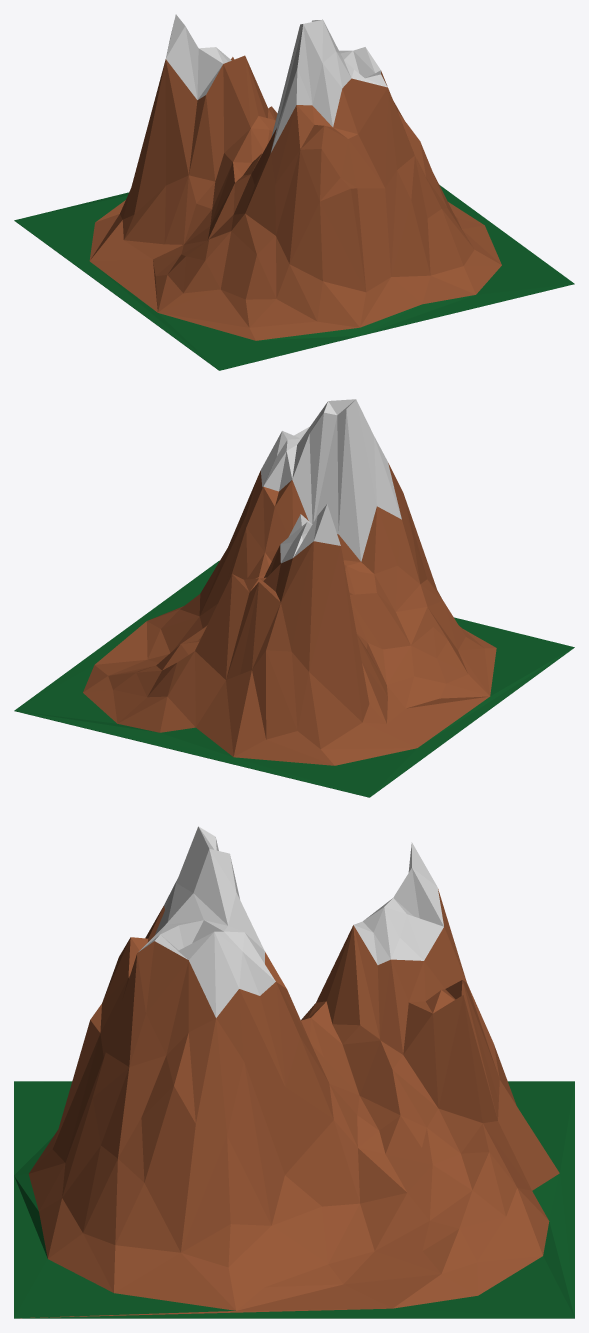
File: Mountain03.fbx
The picture shows the model from 3 angles, top to bottom: view 1: azimuth 30°, elevation 25°; view 2: azimuth 150°, elevation 25°; view 3: azimuth 270°, elevation 25°; orthographic projection. The views are drawn at different scales.
Parts seen in each view (by area): view 1: Mountain03; view 2: Mountain03; view 3: Mountain03.
Boxes of the visible parts, left/top/right/bottom form: Mountain03: left=14, top=14, right=574, bottom=370; Mountain03: left=14, top=399, right=574, bottom=797; Mountain03: left=14, top=826, right=574, bottom=1318.
Size of the model in its own units: 15000 by 10510 by 15001.
